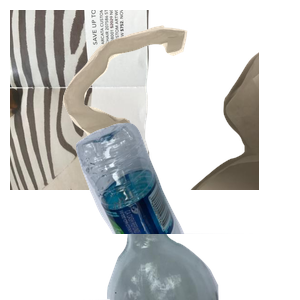glass: (83, 120, 294, 300)
paper: (10, 10, 250, 190)
plastic: (73, 120, 300, 300)
trash: (60, 23, 300, 203)
